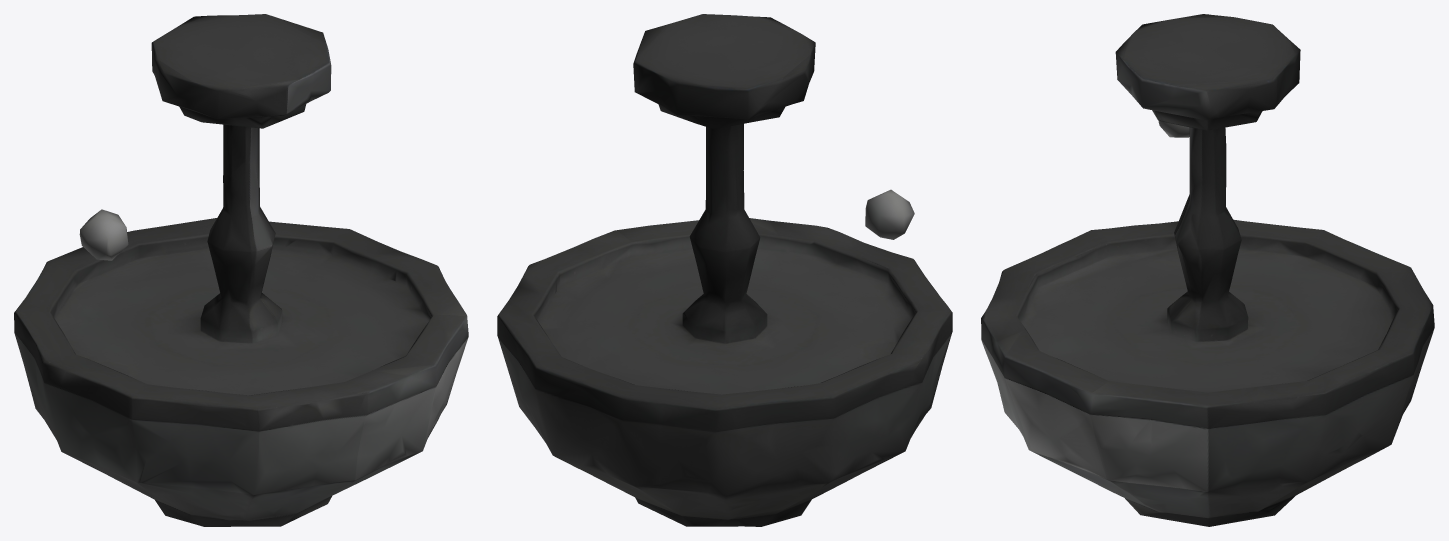
Rendered from geometric+hanging+lamp+3d+model.glb.
3 views of the same model, side by side, from view 1: azimuth 30°, elevation 25°; view 2: azimuth 150°, elevation 25°; view 3: azimuth 270°, elevation 25° (orthographic).
Parts seen in each view (by area): view 1: tripo_node_bf50d634-dd79-4017-bae3-88c8e016cafa; view 2: tripo_node_bf50d634-dd79-4017-bae3-88c8e016cafa; view 3: tripo_node_bf50d634-dd79-4017-bae3-88c8e016cafa.
Boxes of the visible parts, <box> form: tripo_node_bf50d634-dd79-4017-bae3-88c8e016cafa: <box>14,14,468,526</box>; tripo_node_bf50d634-dd79-4017-bae3-88c8e016cafa: <box>497,14,952,526</box>; tripo_node_bf50d634-dd79-4017-bae3-88c8e016cafa: <box>981,14,1434,526</box>.
Bounding box in the file's own units: 0.9039 × 1 × 0.905.
1 material, 1 textured.
